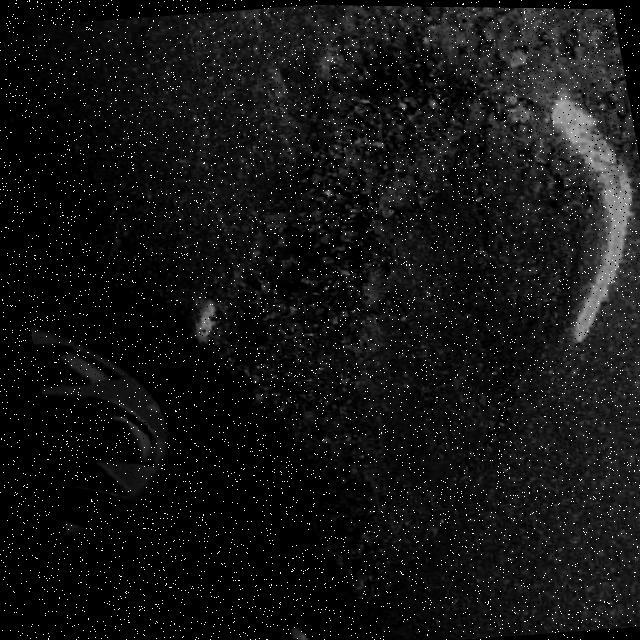pothole: (139, 37, 640, 628)
